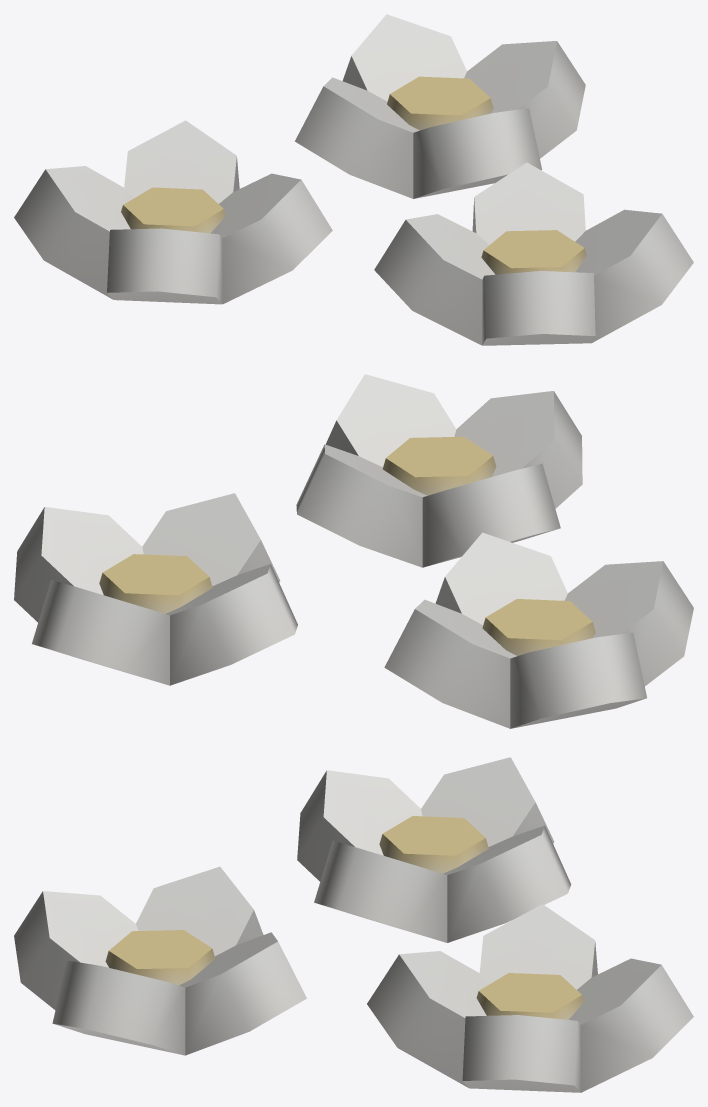
The model's file is flowers_low_white.gltf.
3 views of the same model, one above another, from view 1: azimuth 30°, elevation 25°; view 2: azimuth 150°, elevation 25°; view 3: azimuth 270°, elevation 25° (orthographic). The views are drawn at different scales.
Parts seen in each view (by area): view 1: flowers_low_white; view 2: flowers_low_white; view 3: flowers_low_white.
Part boxes in pixels (x1=…): flowers_low_white: x1=14, y1=14, x2=693, y2=345; flowers_low_white: x1=14, y1=374, x2=693, y2=728; flowers_low_white: x1=14, y1=757, x2=693, y2=1092.
Bounding box in the file's own units: 0.7766 × 0.137 × 0.7857.
